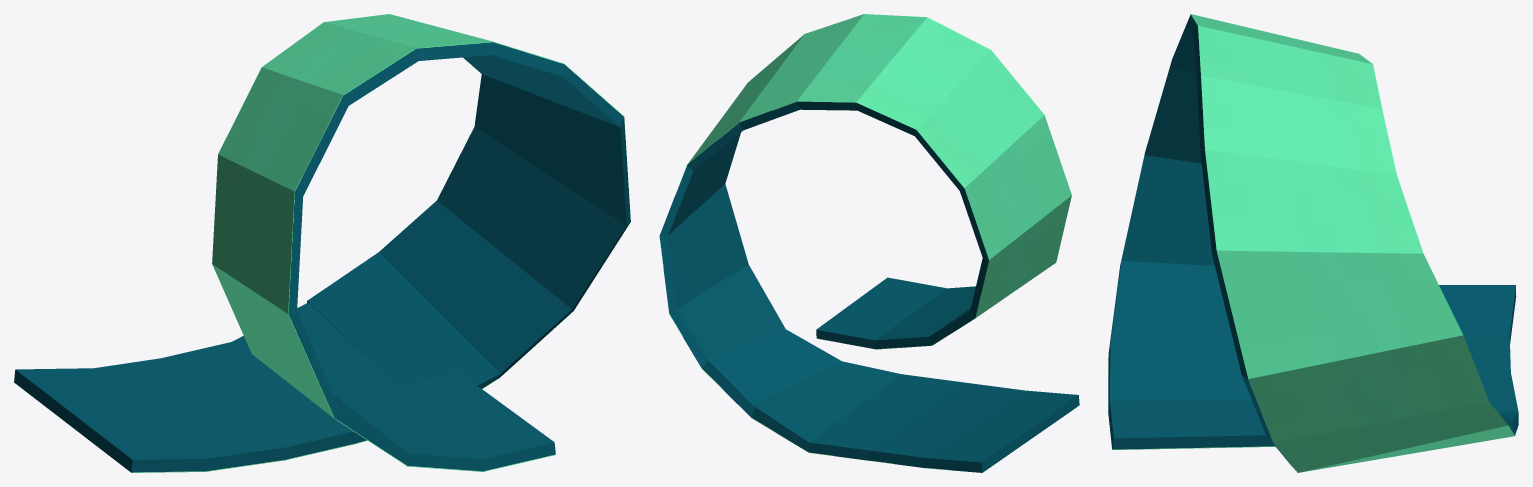
The model's file is loop.fbx.
The picture shows the model from 3 angles, left to right: view 1: azimuth 30°, elevation 25°; view 2: azimuth 150°, elevation 25°; view 3: azimuth 270°, elevation 25°; orthographic projection. The views are drawn at different scales.
Visible parts, largest first — view 1: Cube; view 2: Cube; view 3: Cube.
Boxes of the visible parts, x1=… form: Cube: x1=14, y1=14, x2=630, y2=472; Cube: x1=659, y1=14, x2=1079, y2=472; Cube: x1=1108, y1=14, x2=1518, y2=472.
Size of the model in its own units: 498 by 424 by 386.
